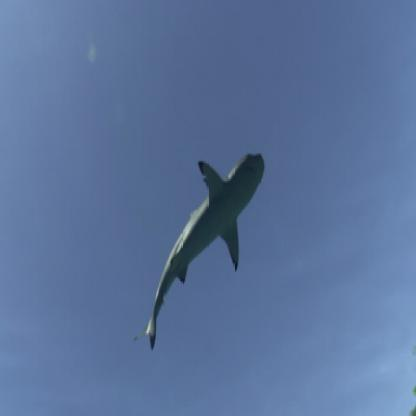shark: (126, 138, 273, 356)
